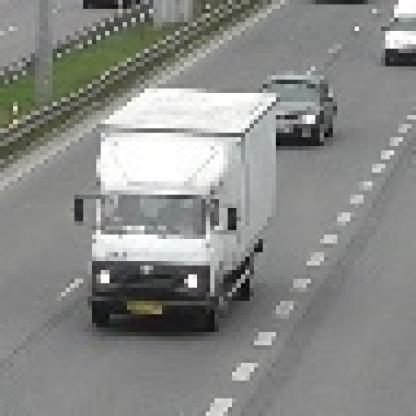truck: (71, 85, 277, 324)
